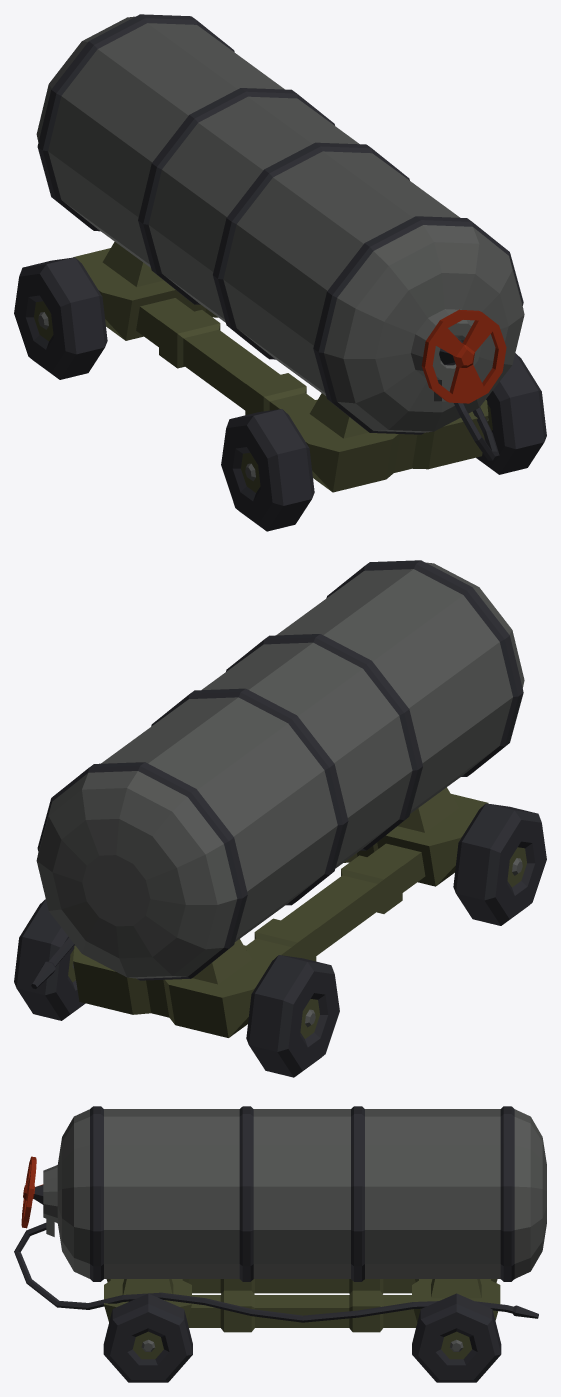
Rendered from LPWarPack_FuelTank.fbx.
3 views of the same model, one above another, from view 1: azimuth 30°, elevation 25°; view 2: azimuth 150°, elevation 25°; view 3: azimuth 270°, elevation 25° (orthographic). The views are drawn at different scales.
Visible parts, largest first — view 1: FuelTank; view 2: FuelTank; view 3: FuelTank.
Boxes of the visible parts, bbox=[...] form: FuelTank: bbox=[14, 14, 546, 531]; FuelTank: bbox=[14, 560, 546, 1077]; FuelTank: bbox=[14, 1106, 546, 1382].
Bounding box in the file's own units: 169 × 175 × 382.
